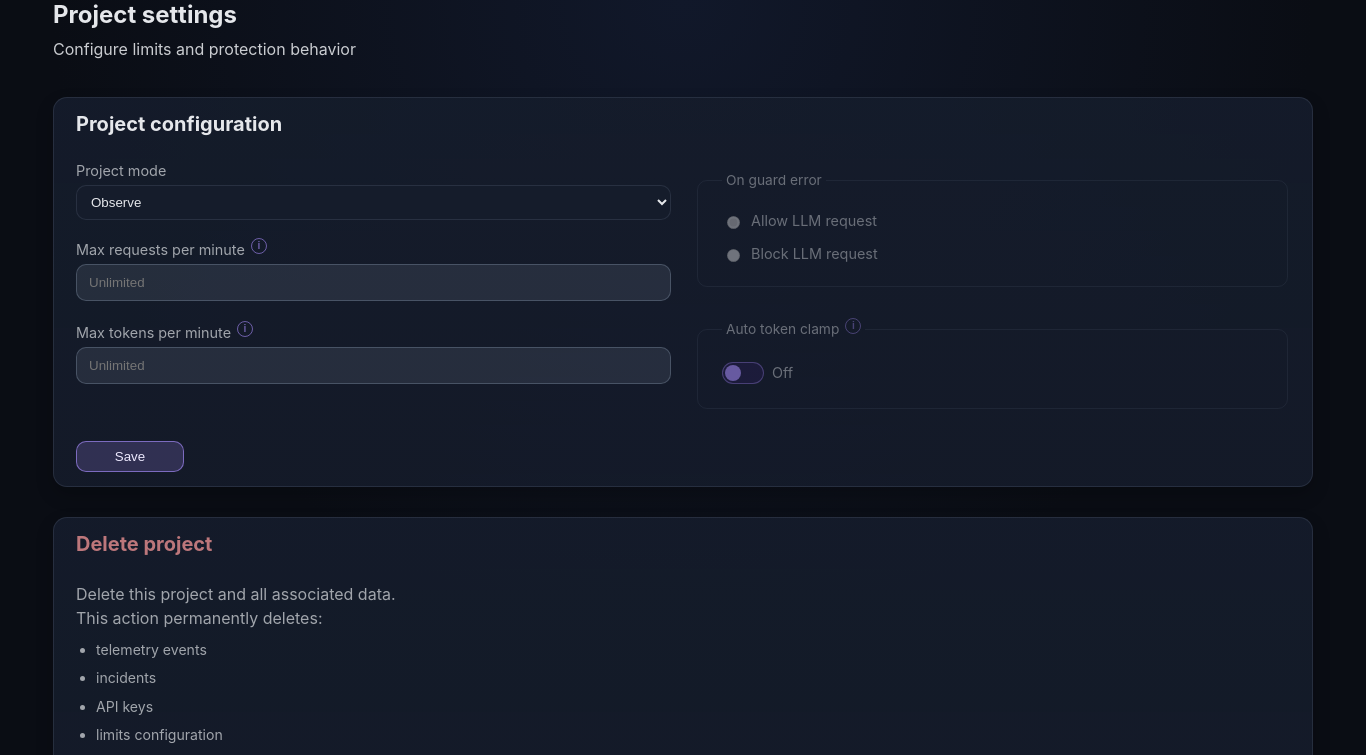
Scenario: Protect page › opens readiness modal when switching from observe to protect with warnings
The image size is (1366, 755).
Select "Protect" in the dropdown labelled "Project mode": (374, 202) left=76, top=185, right=671, bottom=220
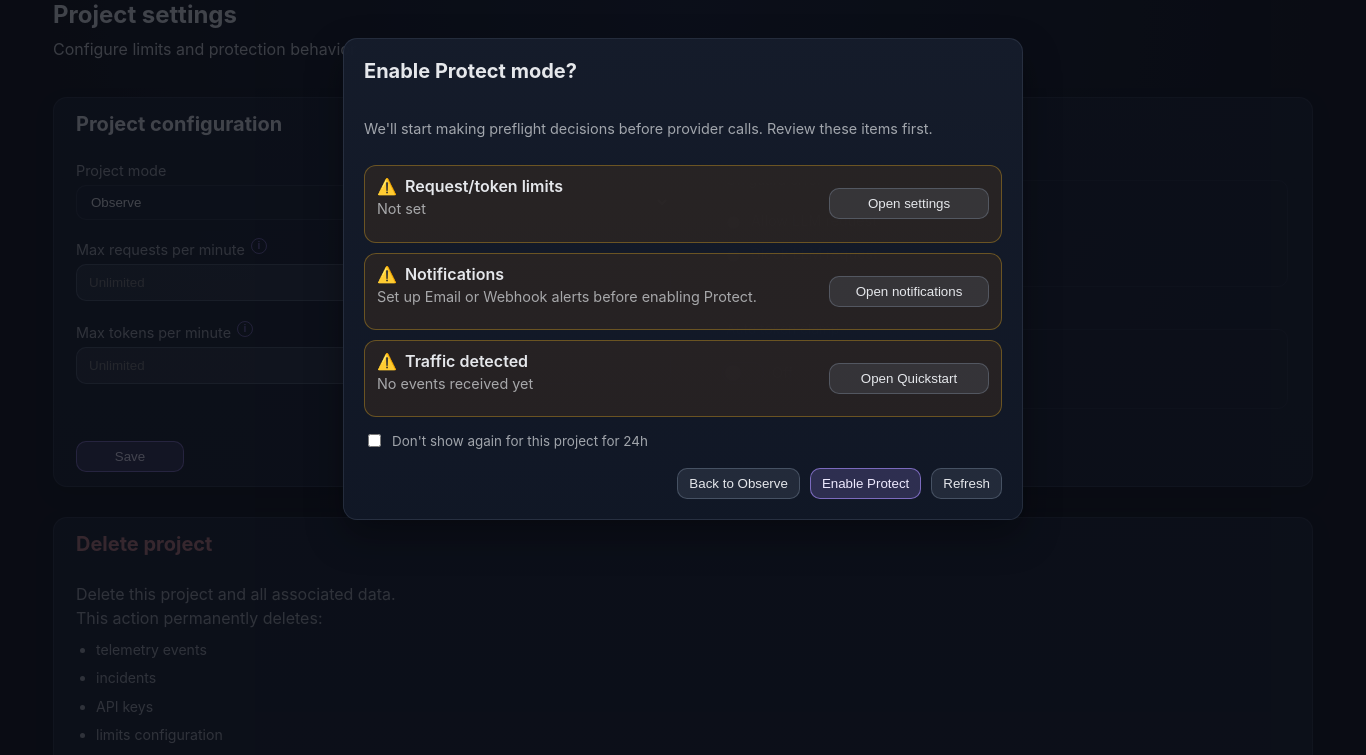
Now the heading "Enable Protect mode?" is shown, box left=364, top=59, right=577, bottom=83
Now the button "Open settings" is shown, box left=829, top=188, right=989, bottom=219
Now the button "Open Quickstart" is shown, box left=829, top=363, right=989, bottom=394
